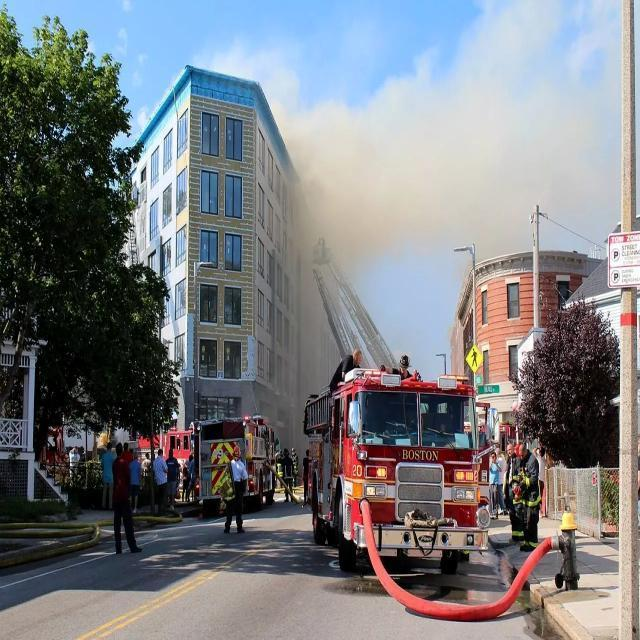Smoke: (262, 86, 527, 312)
